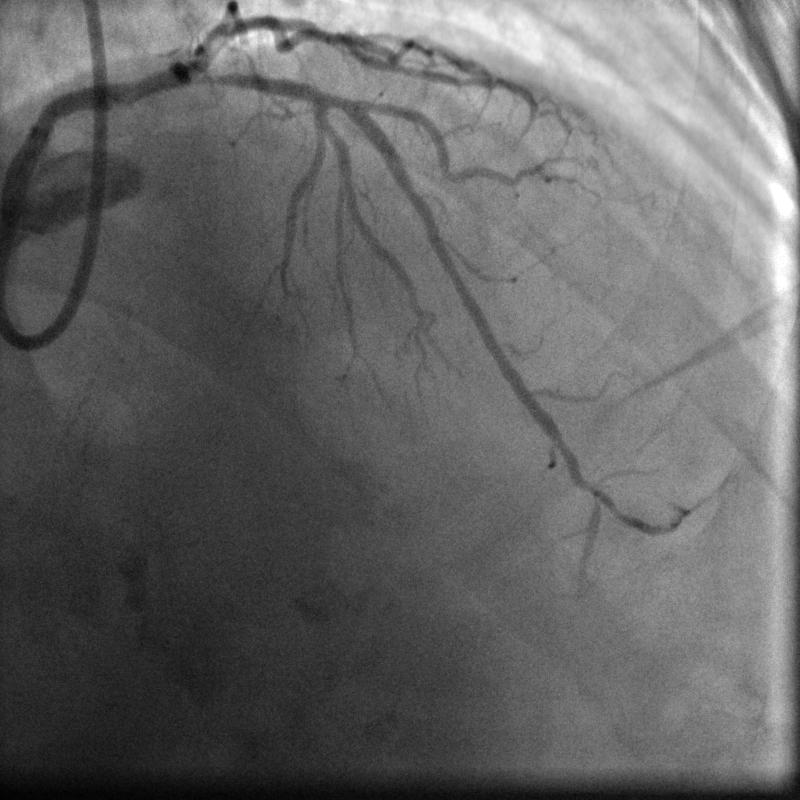Stenosis: (184, 65, 252, 93)
